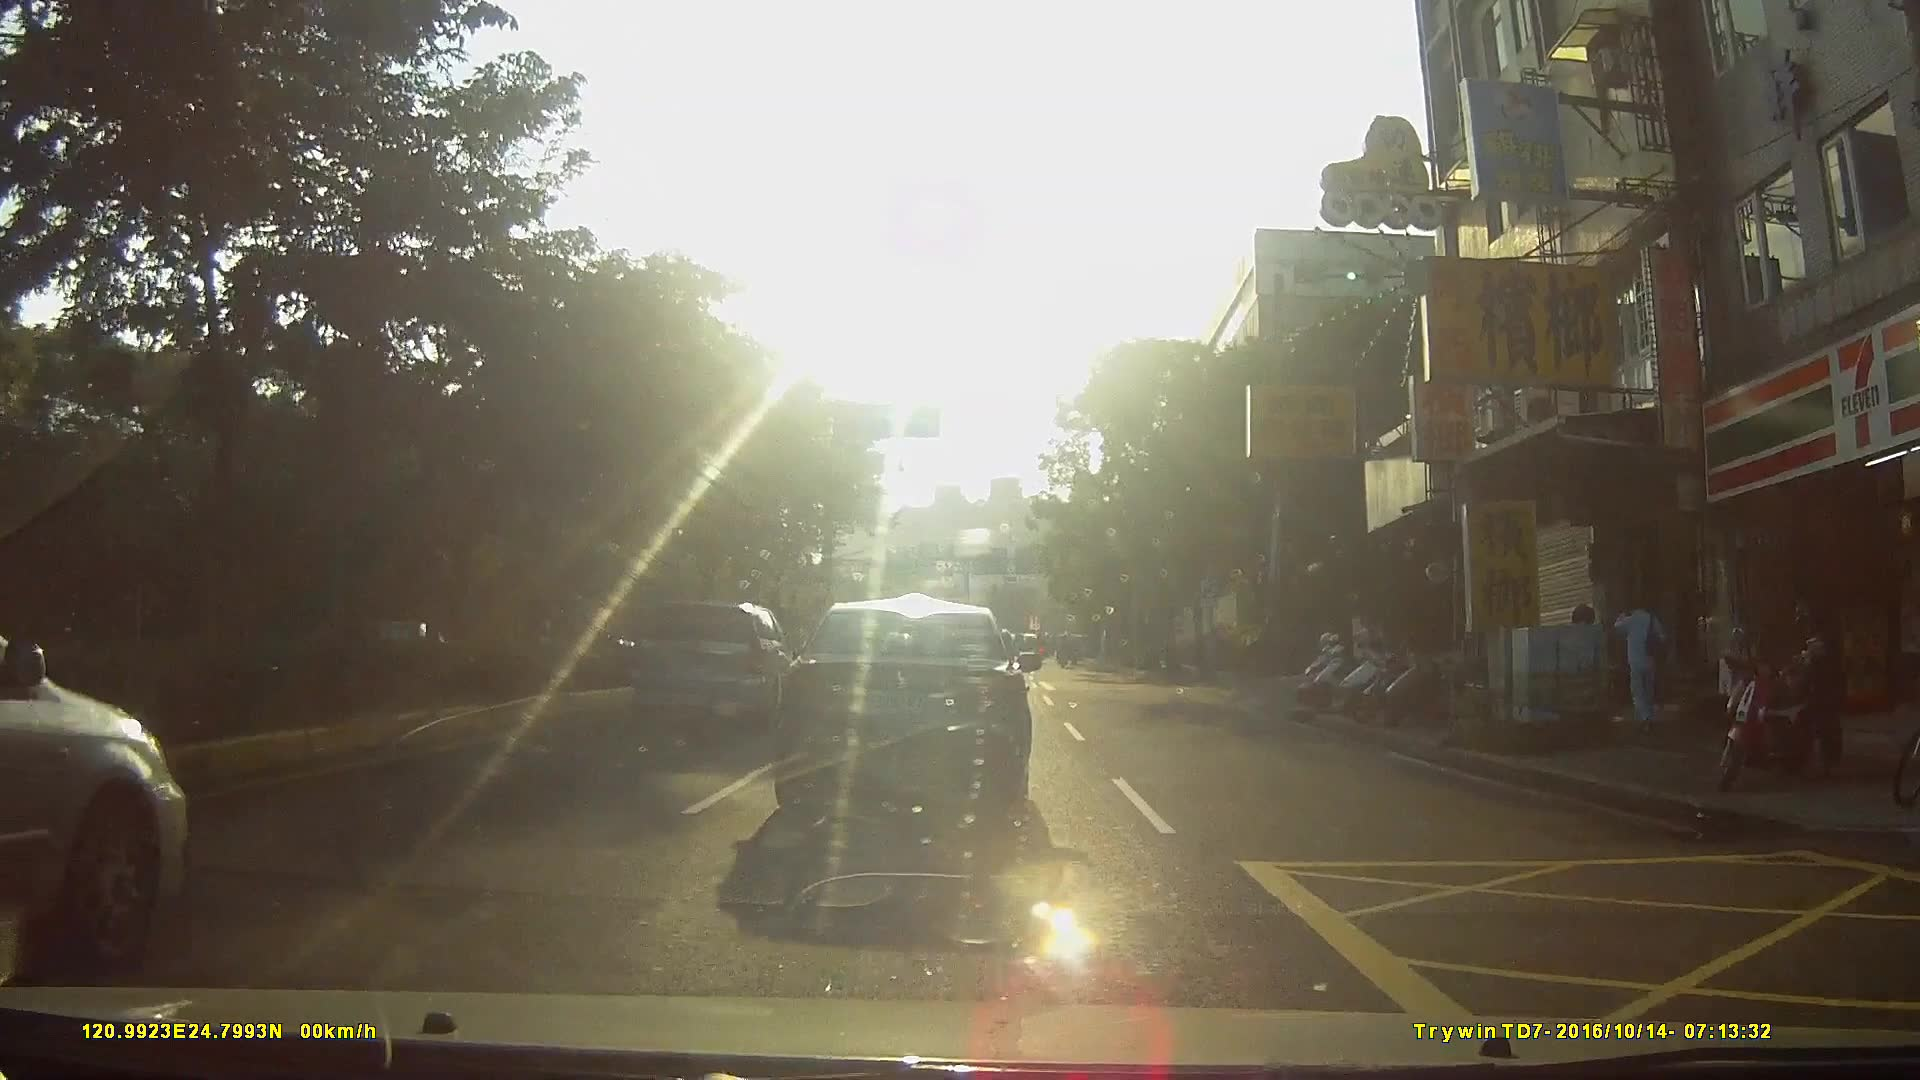pedestrian: (1793, 612, 1855, 782), (1615, 588, 1679, 733)
vehicle: (1, 594, 196, 988), (781, 589, 1061, 833), (634, 600, 802, 729)
